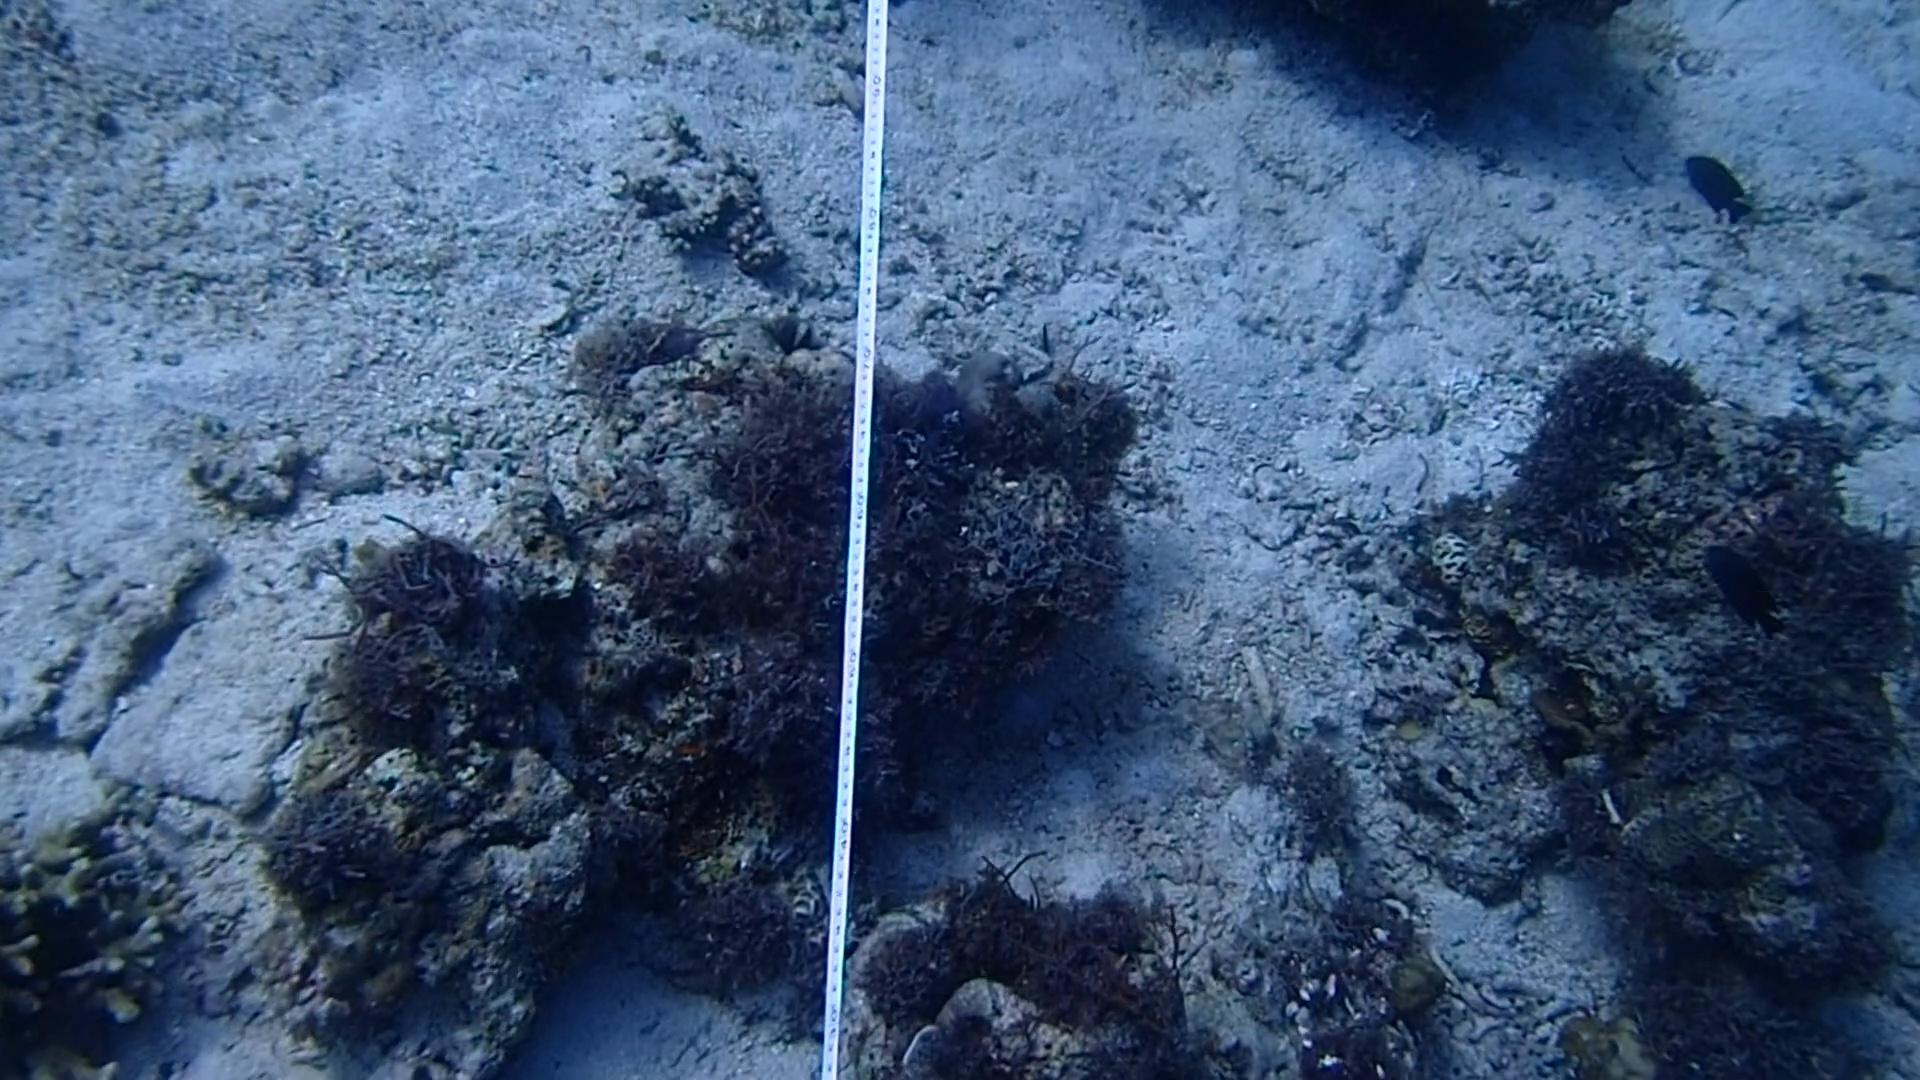Dark Fish: (1695, 531, 1788, 642), (1673, 146, 1767, 237)
